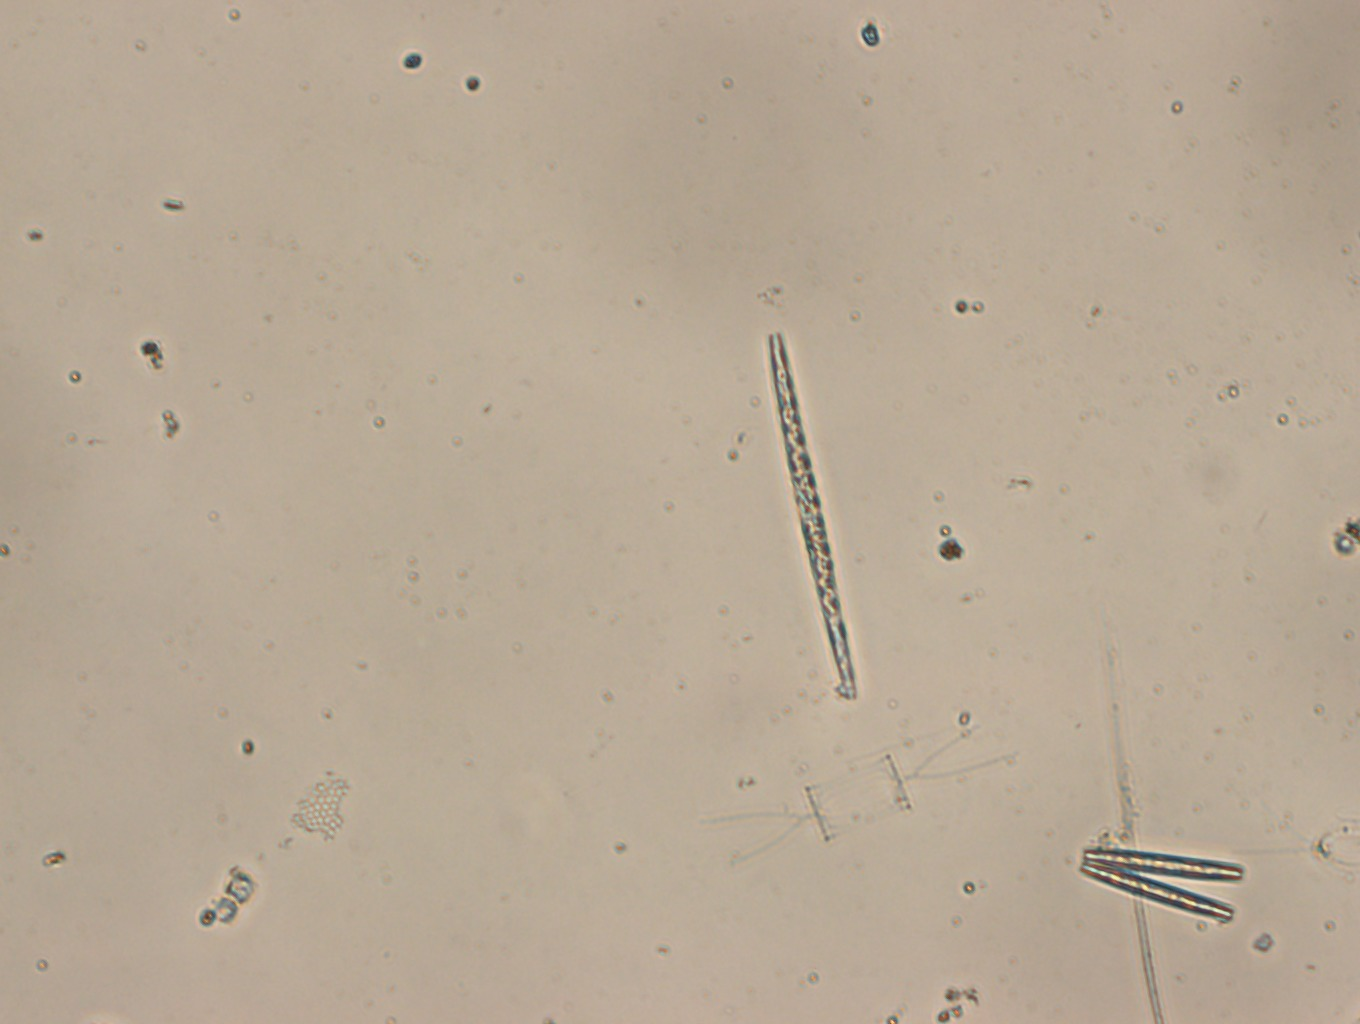chaetoceros: (695, 717, 1025, 865)
thalassionema frauenfeldii: (747, 326, 872, 707), (1075, 828, 1247, 927)
